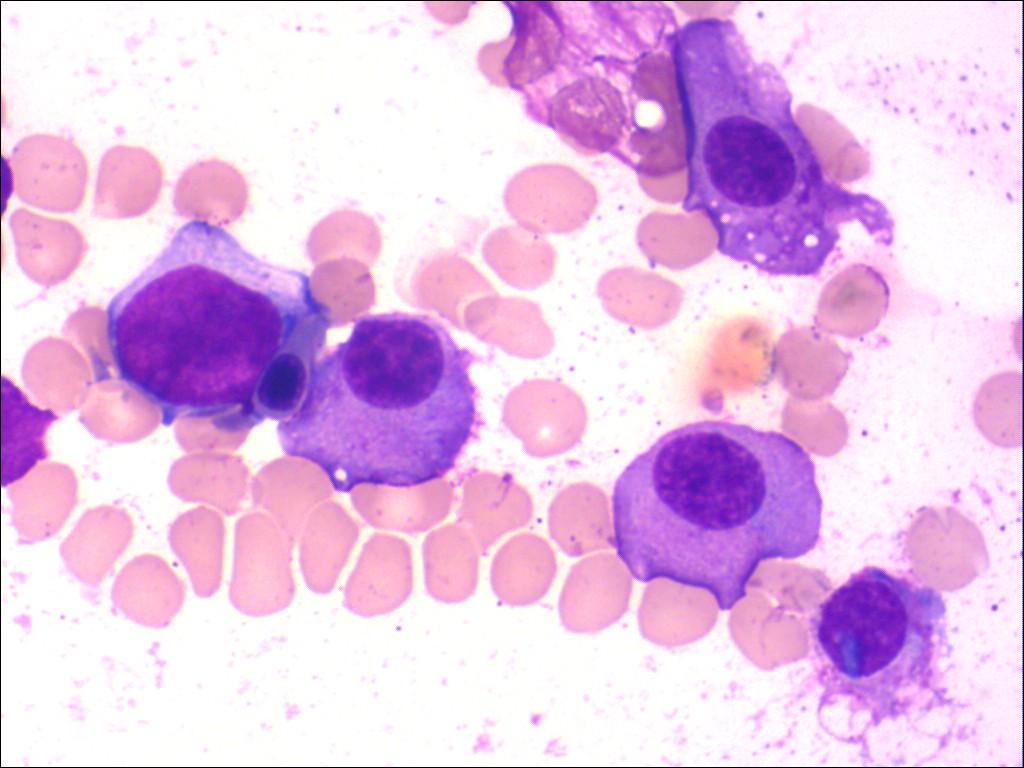24: (254, 349, 311, 419)
51: (669, 15, 898, 281), (608, 419, 825, 612), (106, 218, 284, 411), (338, 305, 458, 419)
x: (809, 562, 925, 686)
